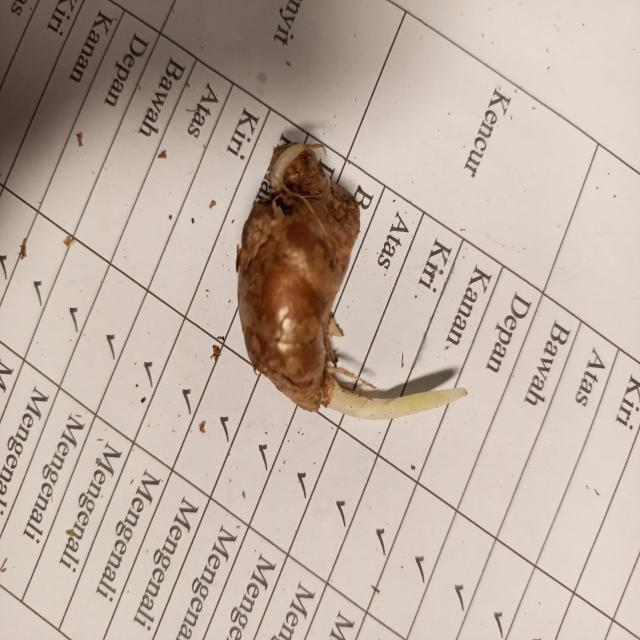ginger: (241, 150, 356, 408)
